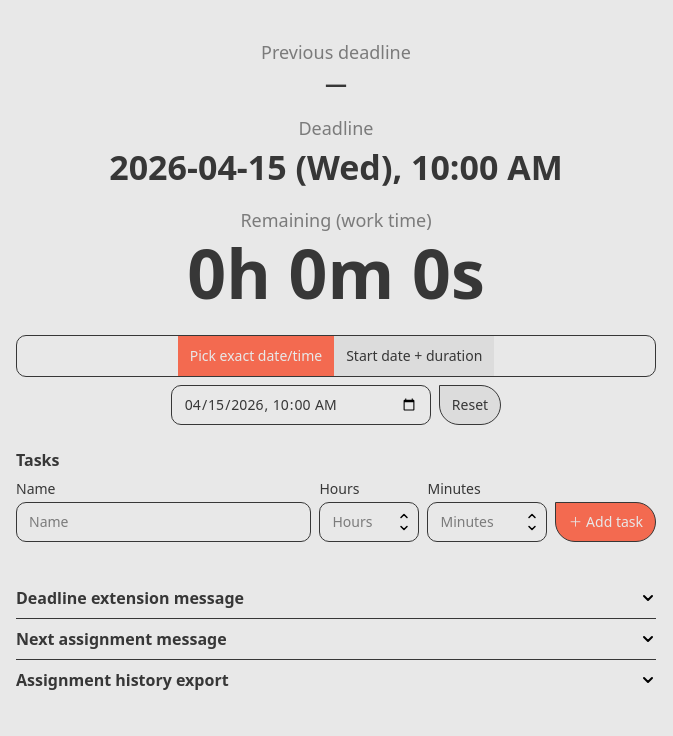
it: App deadline behavior › updates adjusted deadline from task multiplier when tasks are added later
The image size is (673, 736).
Replace the text in the field named "Deadline time" with "2026-04-15T13:00". click: (301, 405)
box: [171,385,431,425]
Wait 3600000 ms
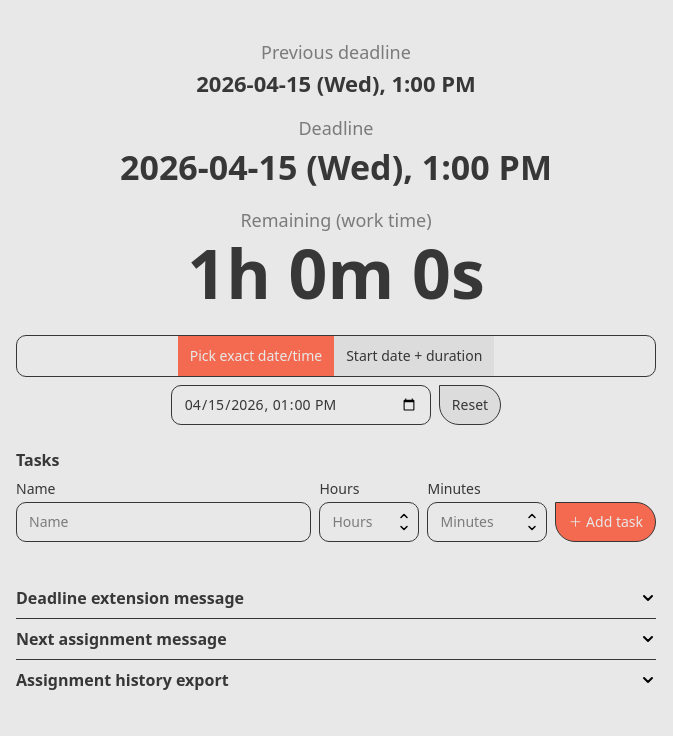
Type "Late added task" into the field labelled "Name". click: (164, 522)
box: [16,502,312,542]
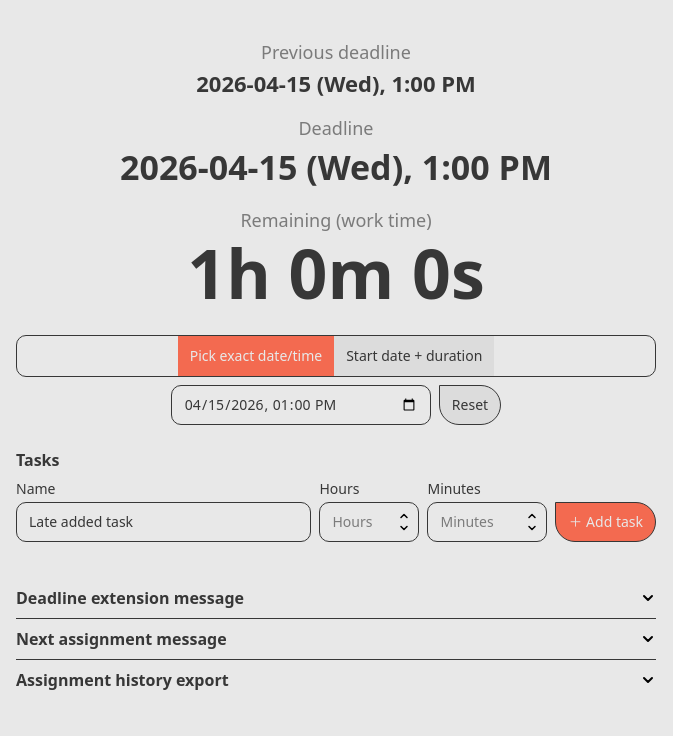
Type "2" into the number field labelled "Hours". click: (370, 522)
box: [320,502,420,542]
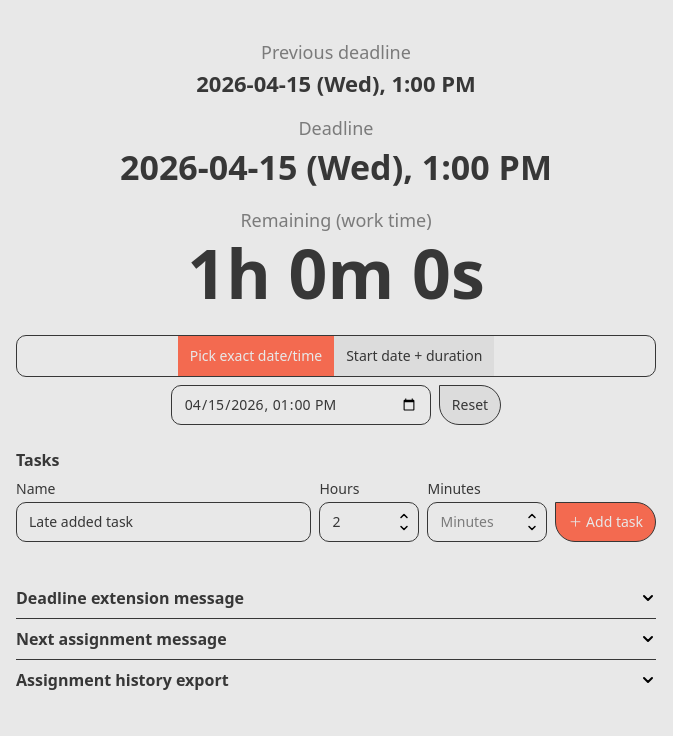
Type "0" into the number field labelled "Minutes". click: (488, 522)
box: [428,502,548,542]
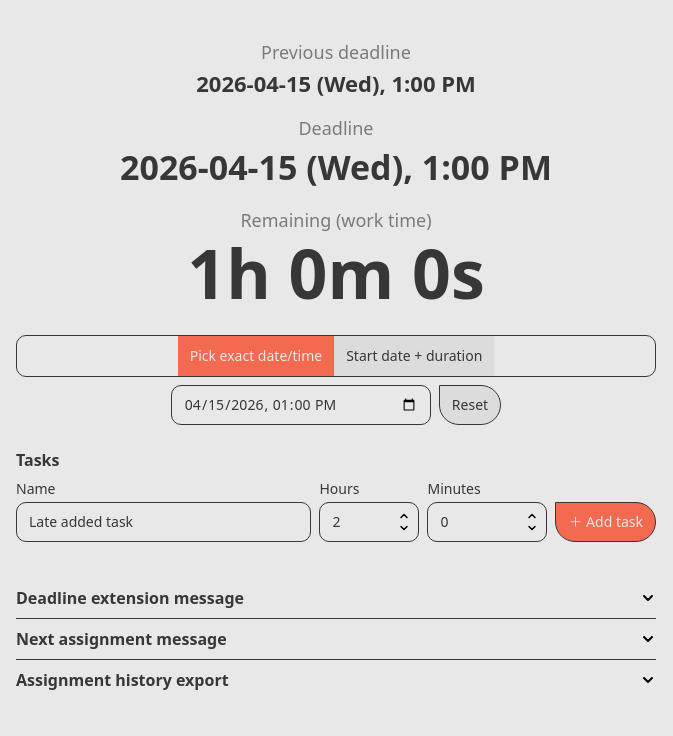
Click the button "Add task". click: (606, 522)
box: [556,502,656,542]
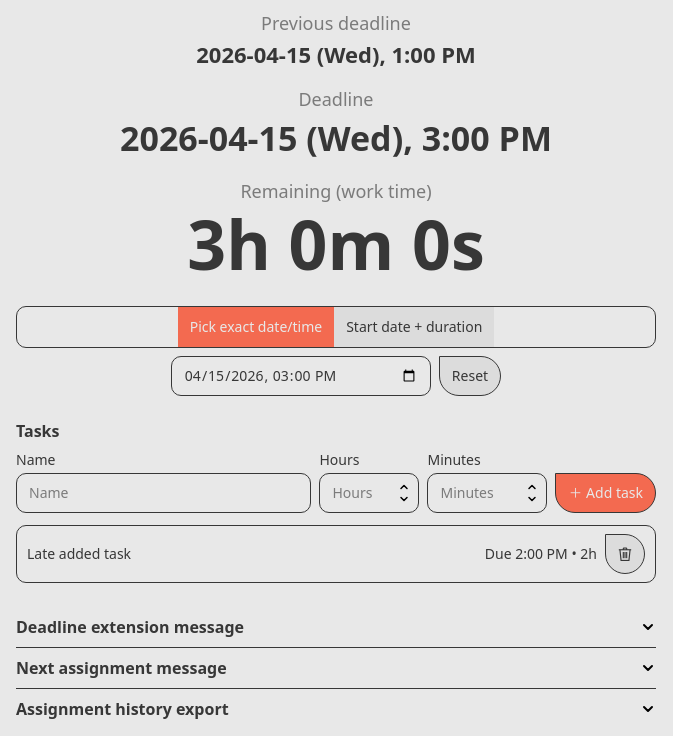
Click the button with aria-label "Toggle original and adjusted schedule". click: (336, 138)
box: [120,115,552,161]
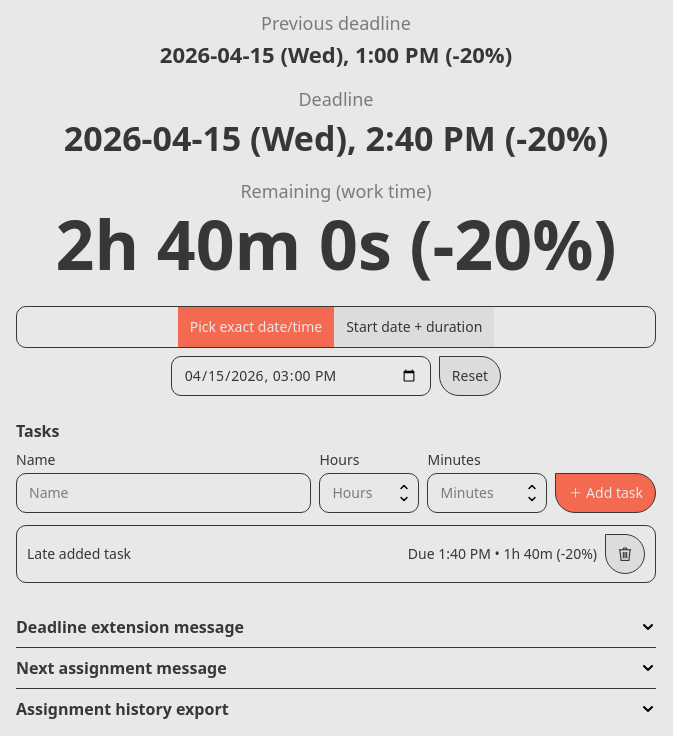
Check: the text named "Current deadline display" shows "2:40 PM", box [64,115,496,161]
